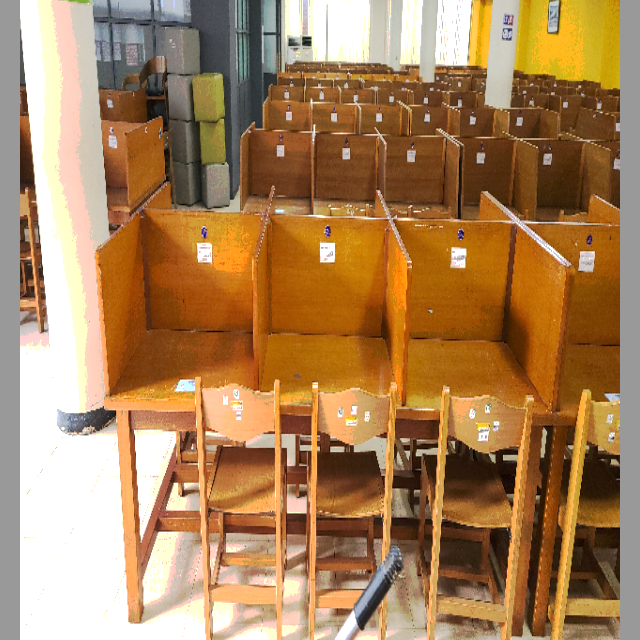empty: (100, 209, 254, 499), (412, 203, 557, 494), (261, 204, 408, 459)
